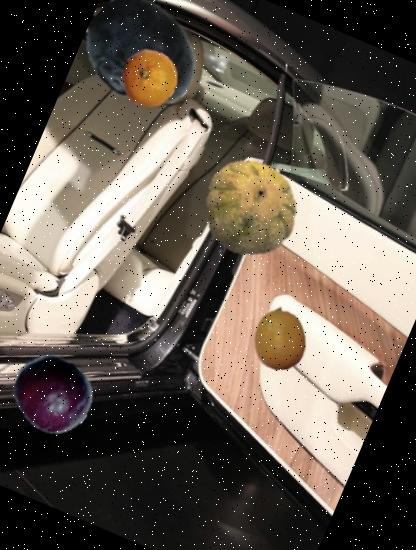Blueberry: (63, 0, 219, 132)
Cantaloupe: (186, 144, 314, 271)
Lemon: (238, 297, 322, 381), (111, 41, 186, 116)
Plum: (0, 340, 106, 448)
